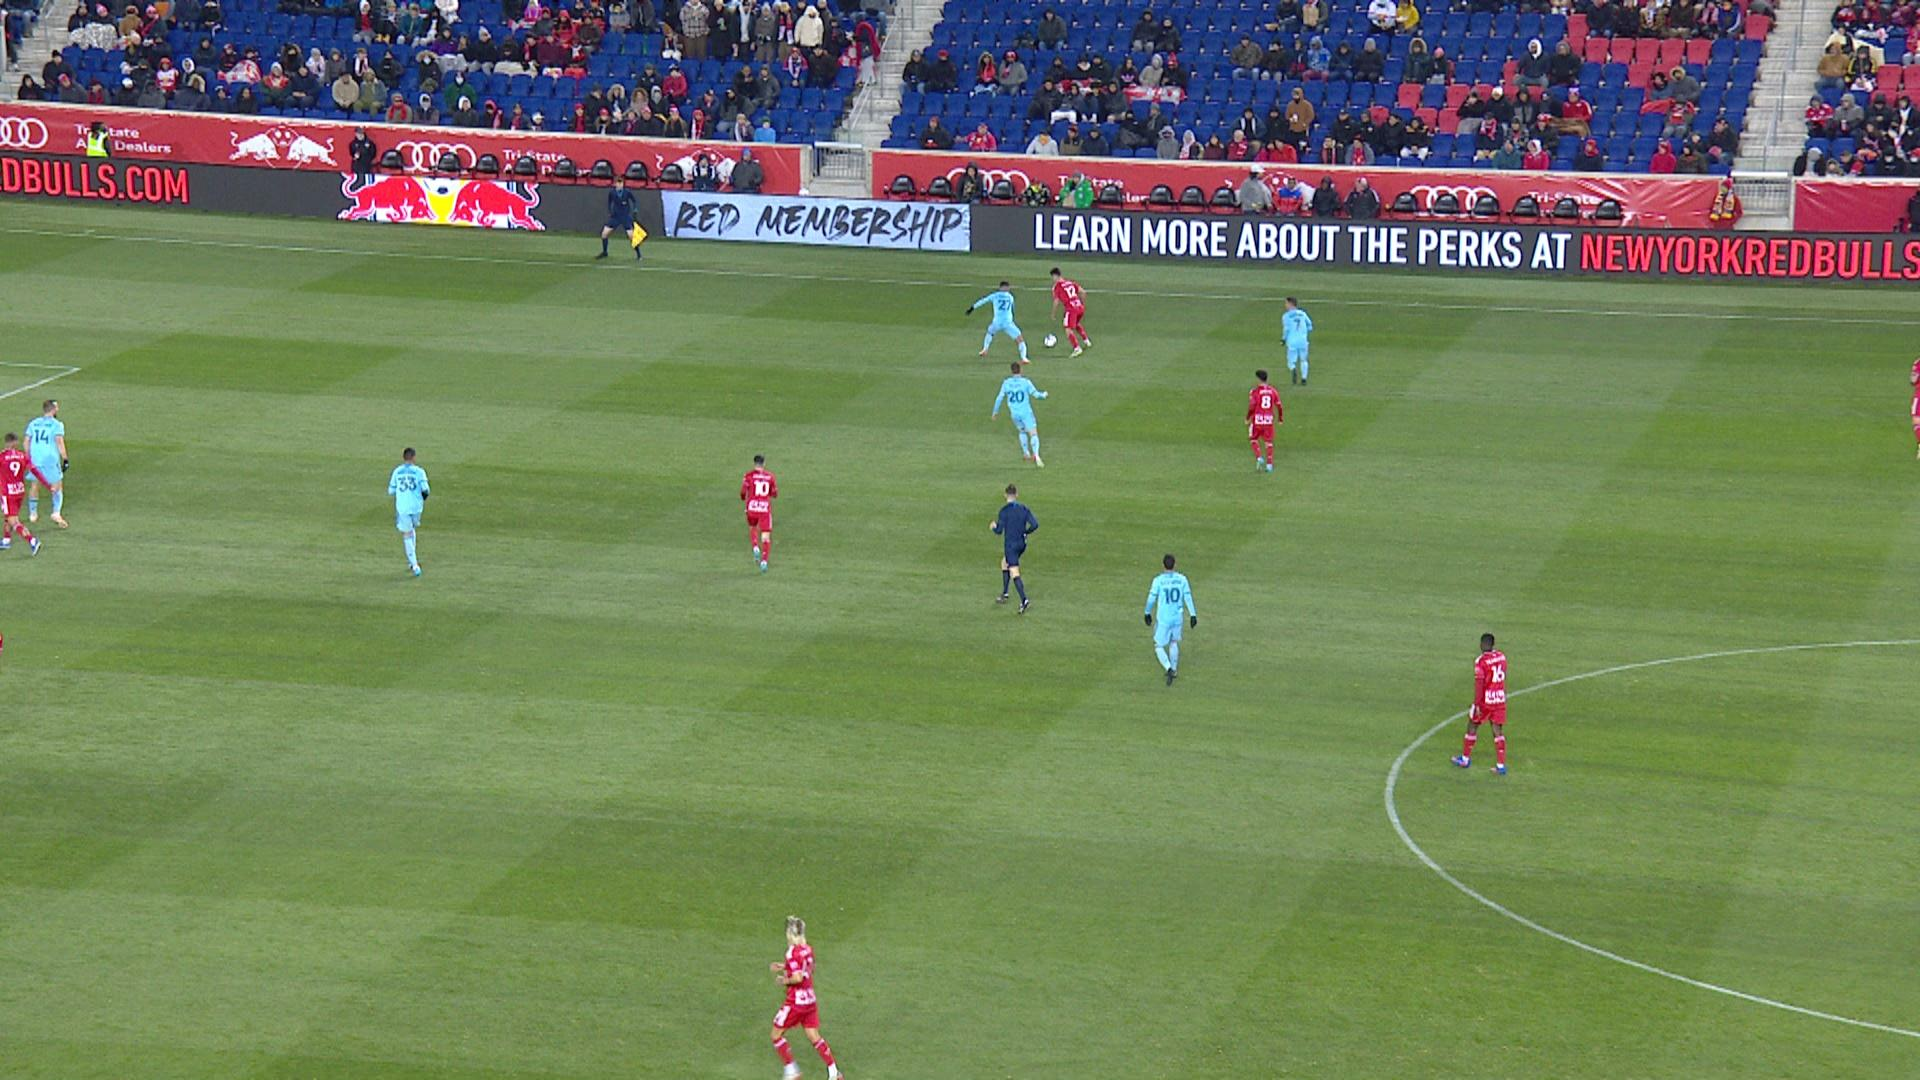football: (1043, 331, 1058, 349)
